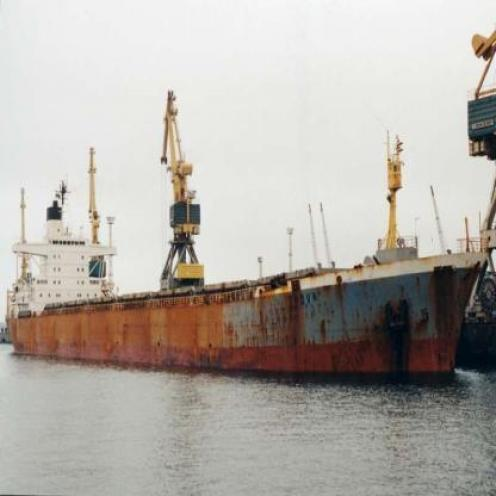Ship: (11, 213, 475, 386)
